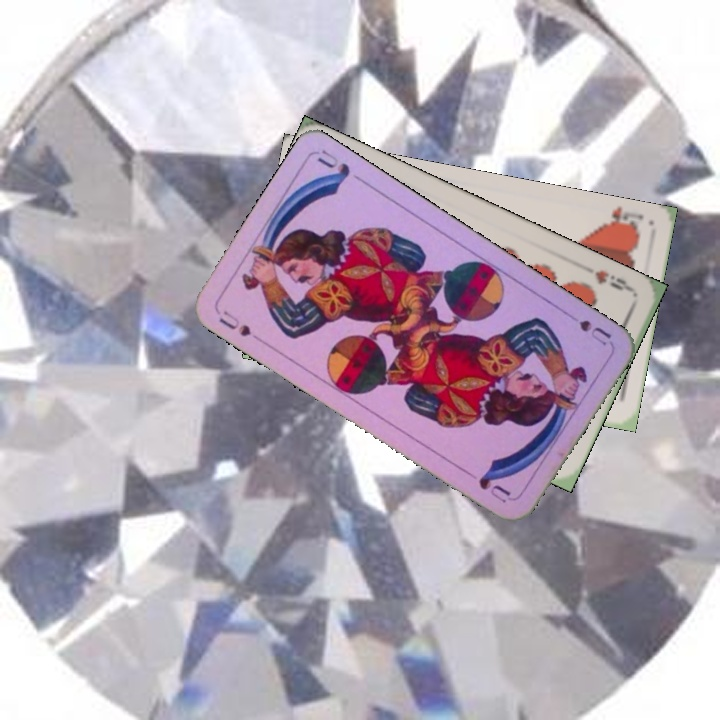H9: (590, 266, 637, 295)
HO: (598, 203, 646, 235)
SU: (560, 307, 614, 349), (214, 306, 266, 346)
